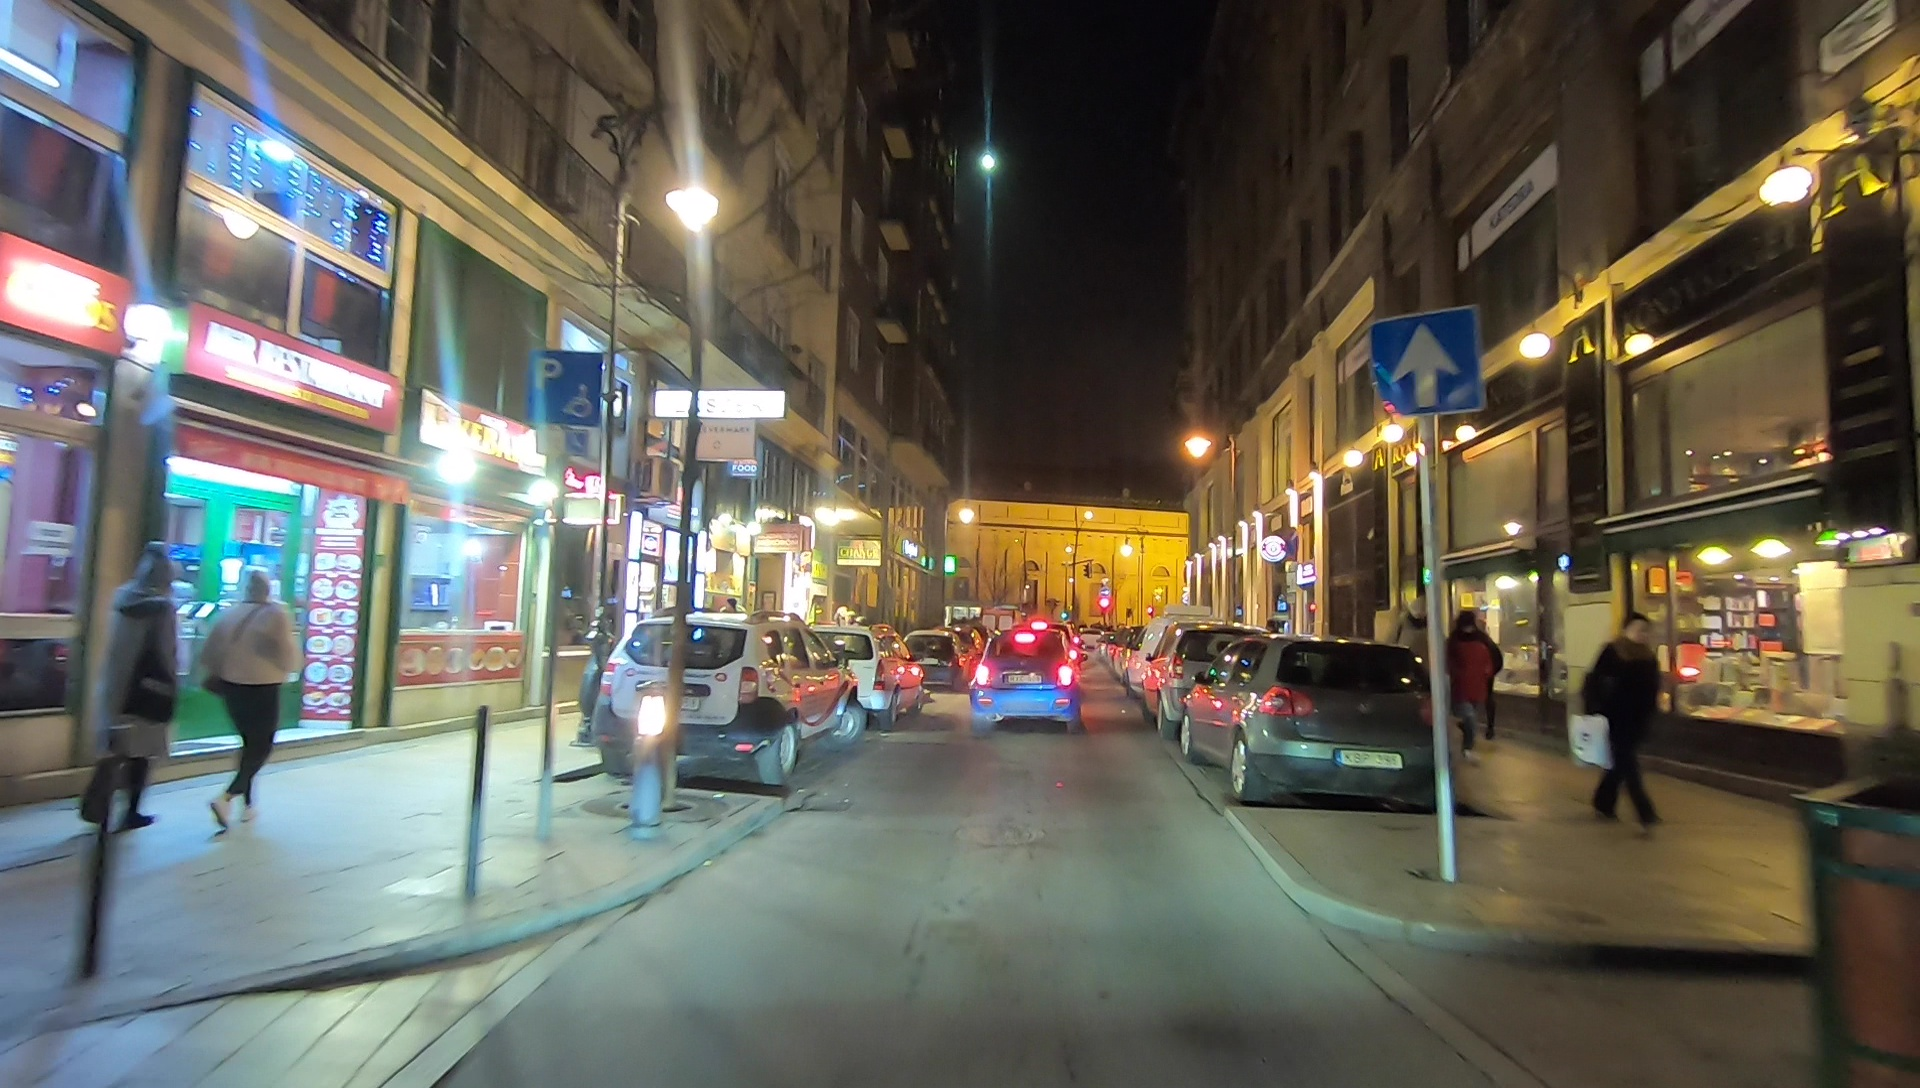person: (71, 537, 180, 839), (201, 567, 301, 845), (1578, 611, 1660, 824), (1447, 608, 1499, 765)
